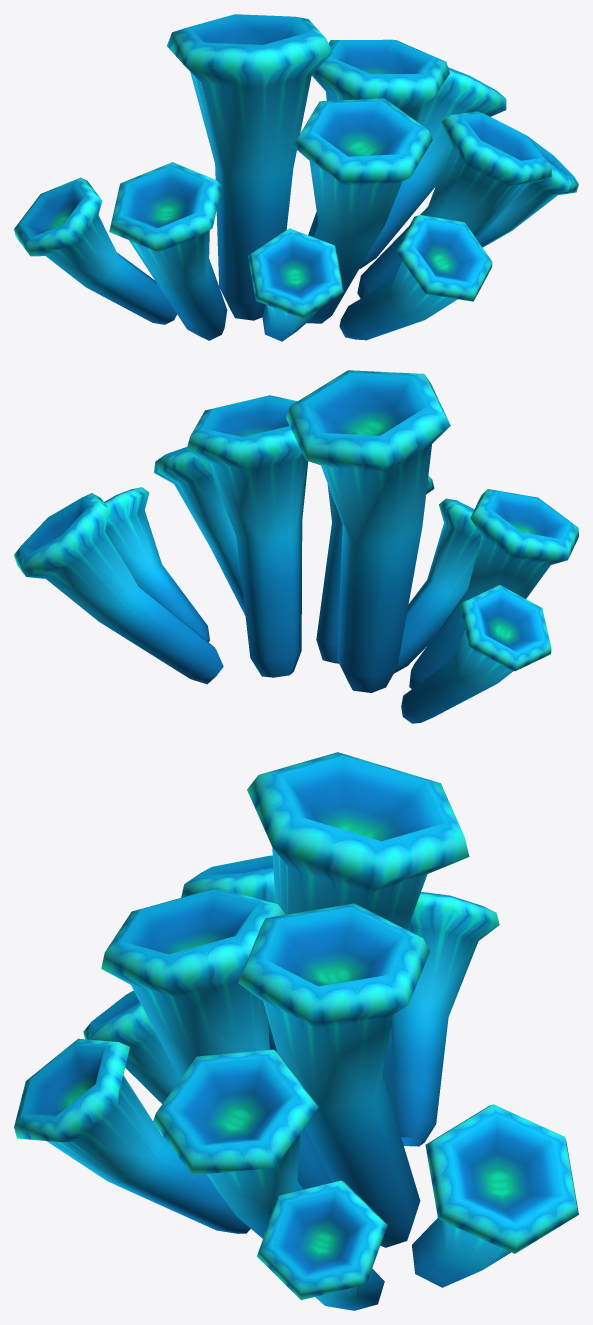
The picture shows the model from 3 angles, top to bottom: view 1: azimuth 30°, elevation 25°; view 2: azimuth 150°, elevation 25°; view 3: azimuth 270°, elevation 25°; orthographic projection. The views are drawn at different scales.
Parts seen in each view (by area): view 1: wk_s02_49b; view 2: wk_s02_49b; view 3: wk_s02_49b.
Part boxes in pixels (x1,y1,x2,y2): wk_s02_49b: (14,14,578,341); wk_s02_49b: (14,370,578,723); wk_s02_49b: (14,752,578,1310).
Bounding box in the file's own units: 0.7984 × 0.5631 × 0.4514.
Materials: 1 (1 with a texture image).
